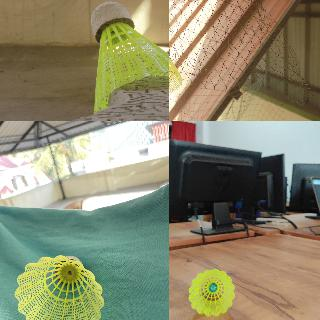shuttlecock: (90, 1, 168, 112), (14, 255, 105, 319), (188, 268, 235, 316), (169, 42, 183, 94)
